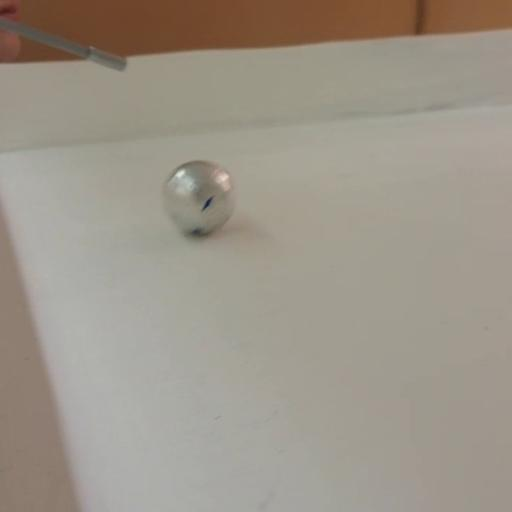alive: (162, 159, 238, 237)
